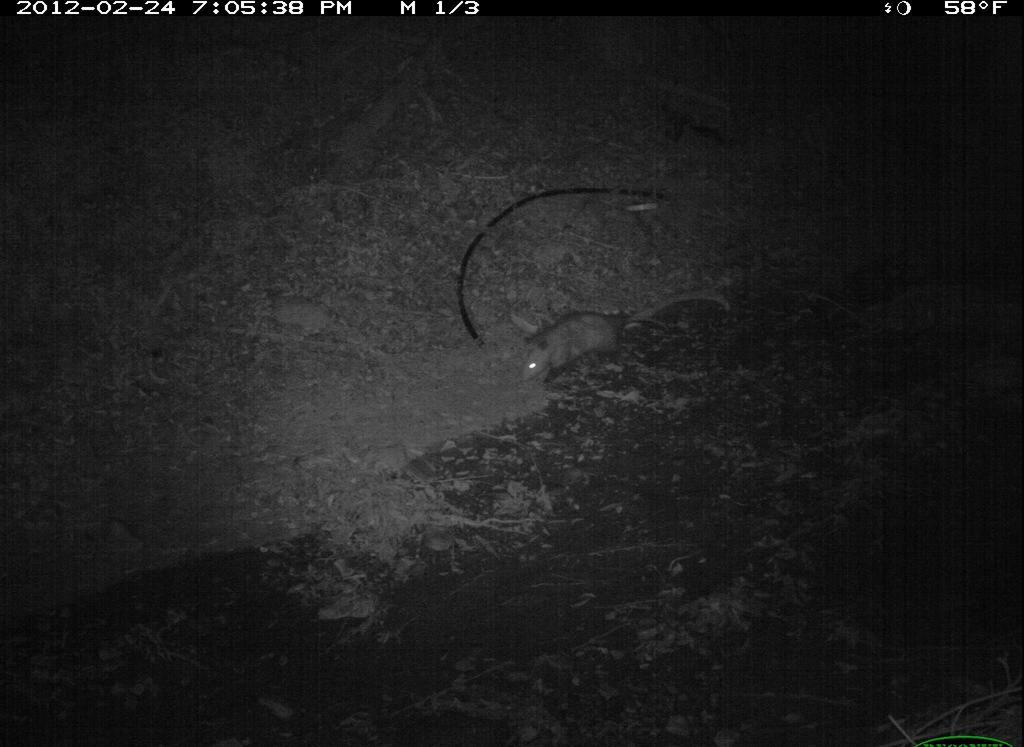opossum: (514, 308, 681, 390)
